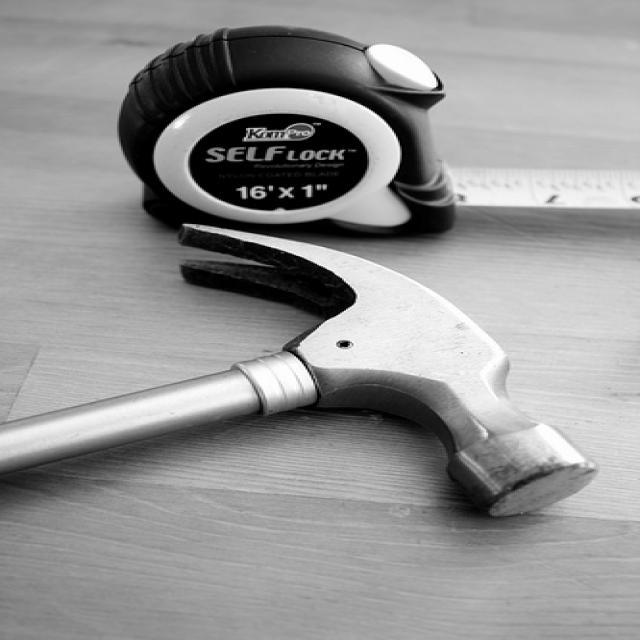hammer: (0, 222, 603, 520)
